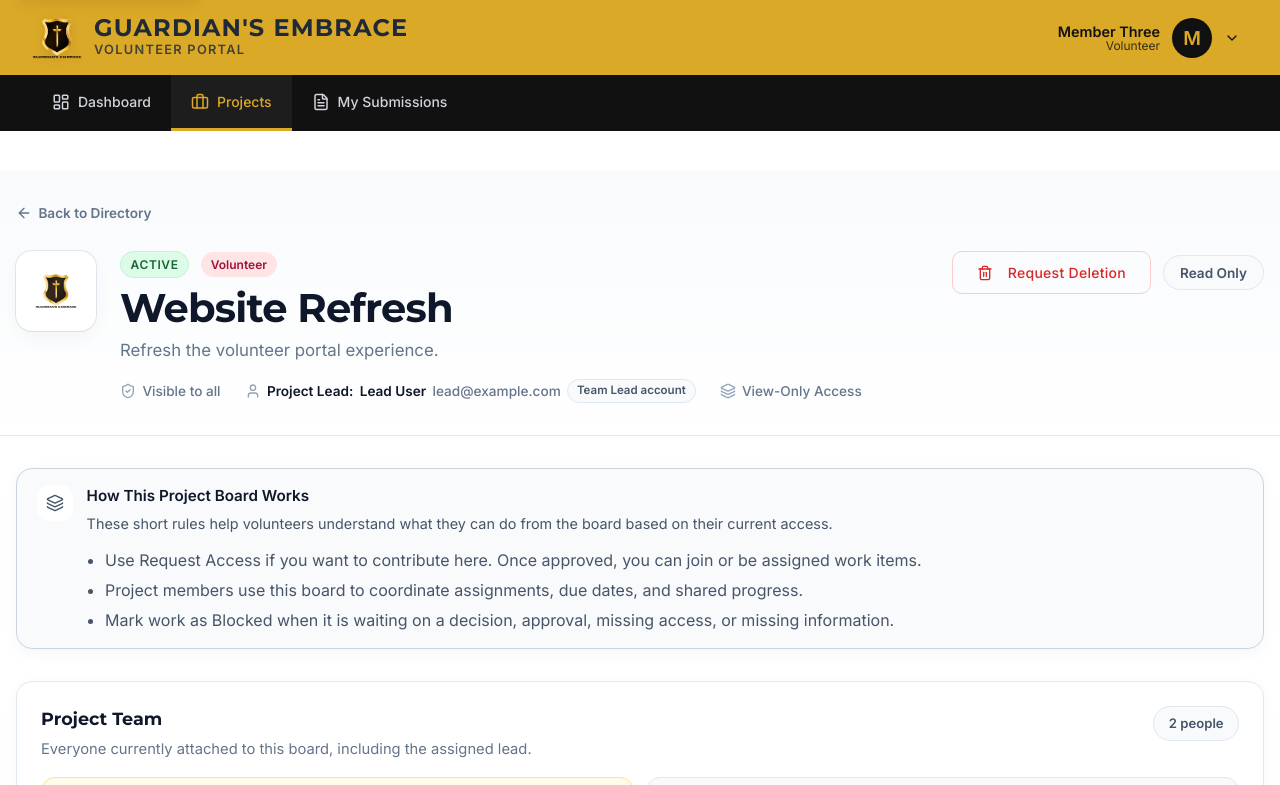
Test: ProjectDetailPage flows › lets a volunteer request project deletion
Expected: the field labelled "why should this project be deleted" is not shown
Click the button "Request Deletion". click: point(1052, 273)
box: x1=952 y1=251 x2=1151 y2=294
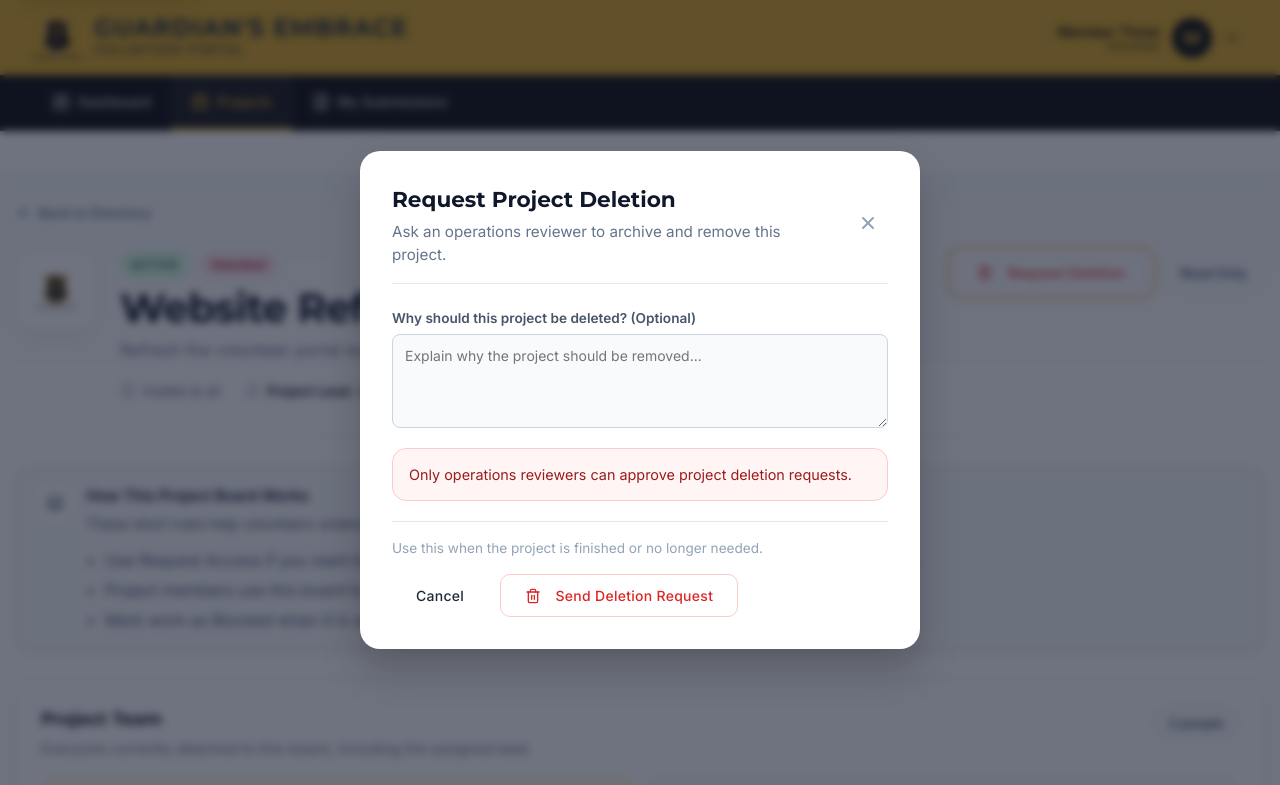
Expected: the heading "Request Project Deletion" is shown, x1=392 y1=186 x2=676 y2=212
Type "This project is complete and can be removed." into the text box labelled "Why should this project be deleted? (Optional)". click: point(640, 381)
box: x1=392 y1=334 x2=888 y2=428
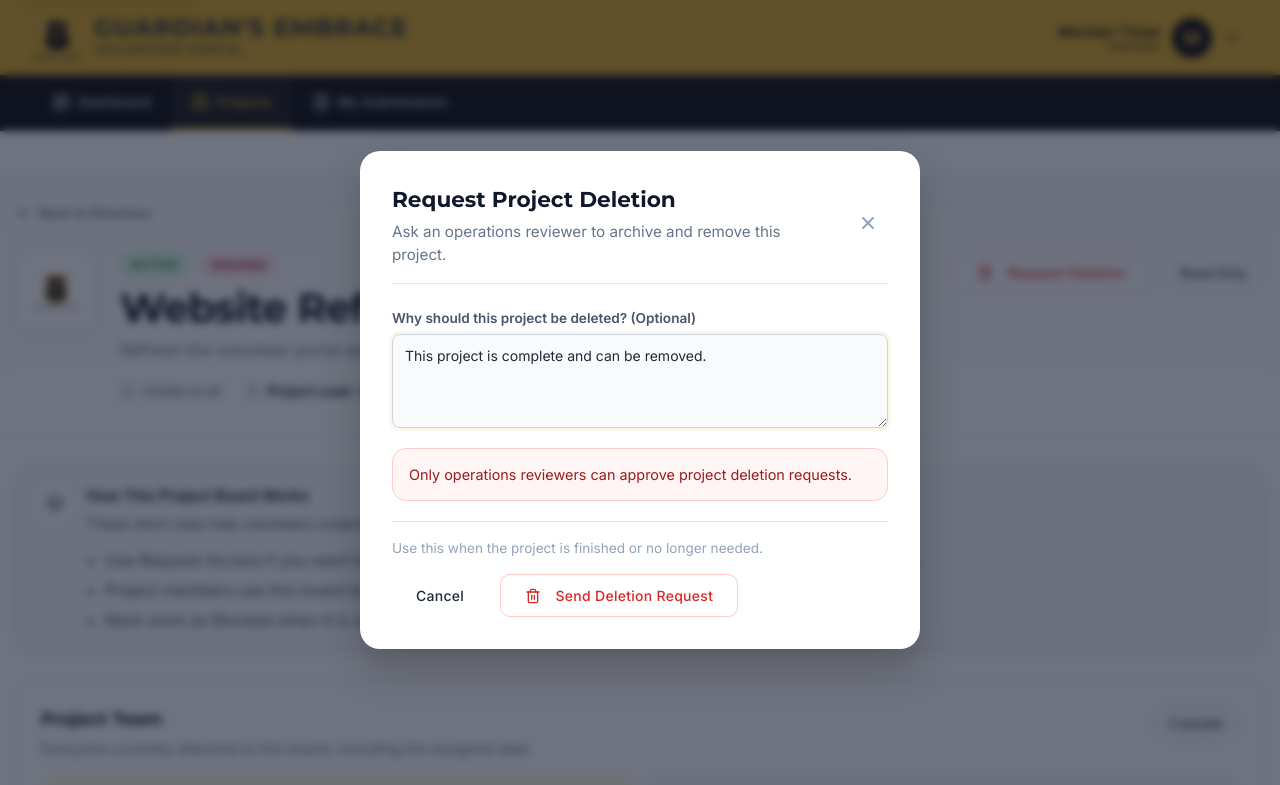
Click the button "Send Deletion Request". click: point(619, 596)
box: x1=500 y1=574 x2=738 y2=617
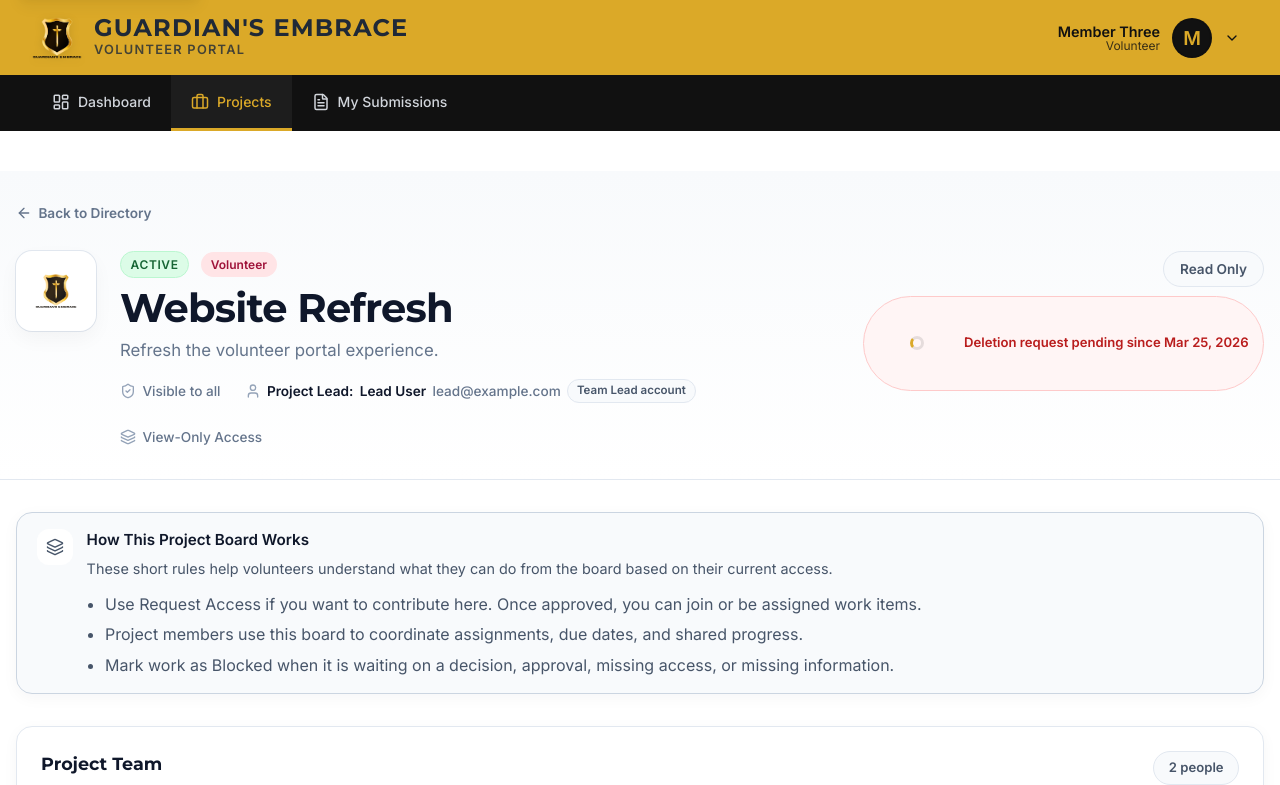
Expected: the text "Deletion request pending since Mar 25, 2026" is shown, x1=863 y1=296 x2=1264 y2=390
